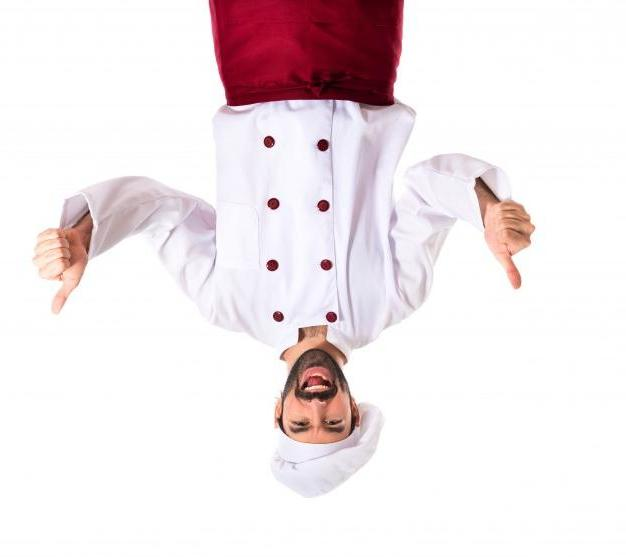thumbsdown: (495, 201, 536, 289), (33, 228, 74, 315)
